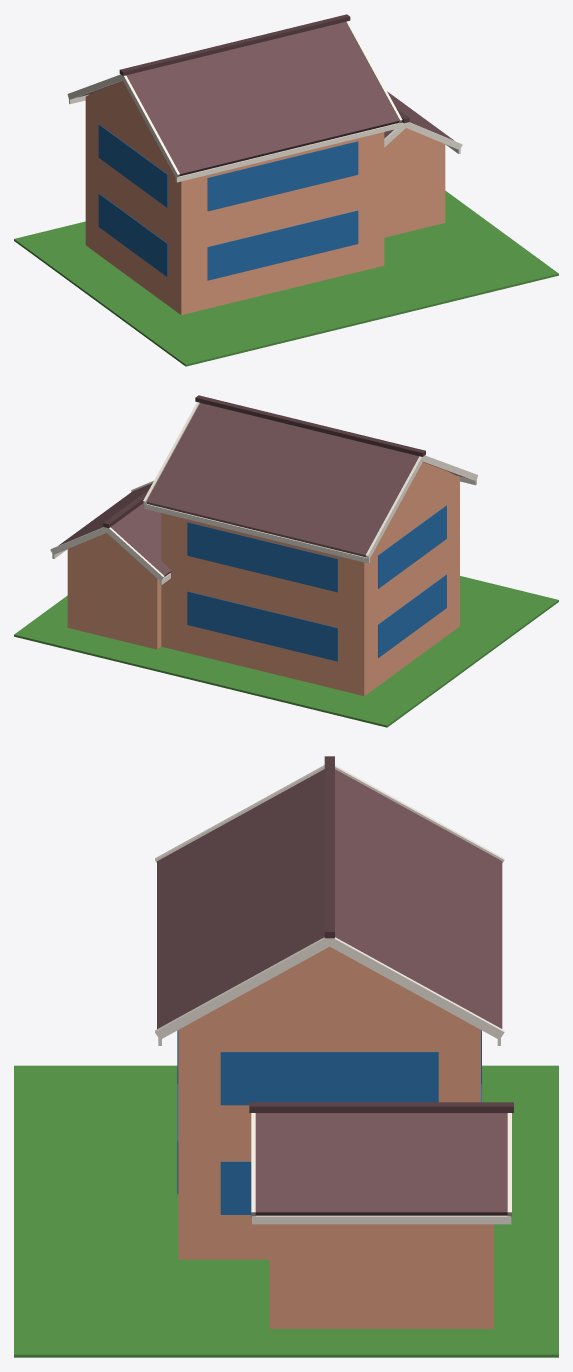
Rendered from 03_chalet-lod2.glb.
3 views of the same model, one above another, from view 1: azimuth 30°, elevation 25°; view 2: azimuth 150°, elevation 25°; view 3: azimuth 270°, elevation 25° (orthographic). The views are drawn at different scales.
Visible parts, largest first — view 1: 03_chalet_LOD2; view 2: 03_chalet_LOD2; view 3: 03_chalet_LOD2.
Part boxes in pixels (bbox=[...]): 03_chalet_LOD2: bbox=[14, 14, 558, 366]; 03_chalet_LOD2: bbox=[14, 395, 558, 727]; 03_chalet_LOD2: bbox=[14, 756, 558, 1357].
Size of the model in its own units: 15.8 by 9.39 by 12.6.
2 materials, 2 textured.
